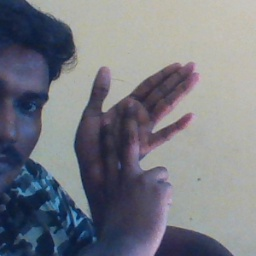N: (74, 59, 202, 207)
